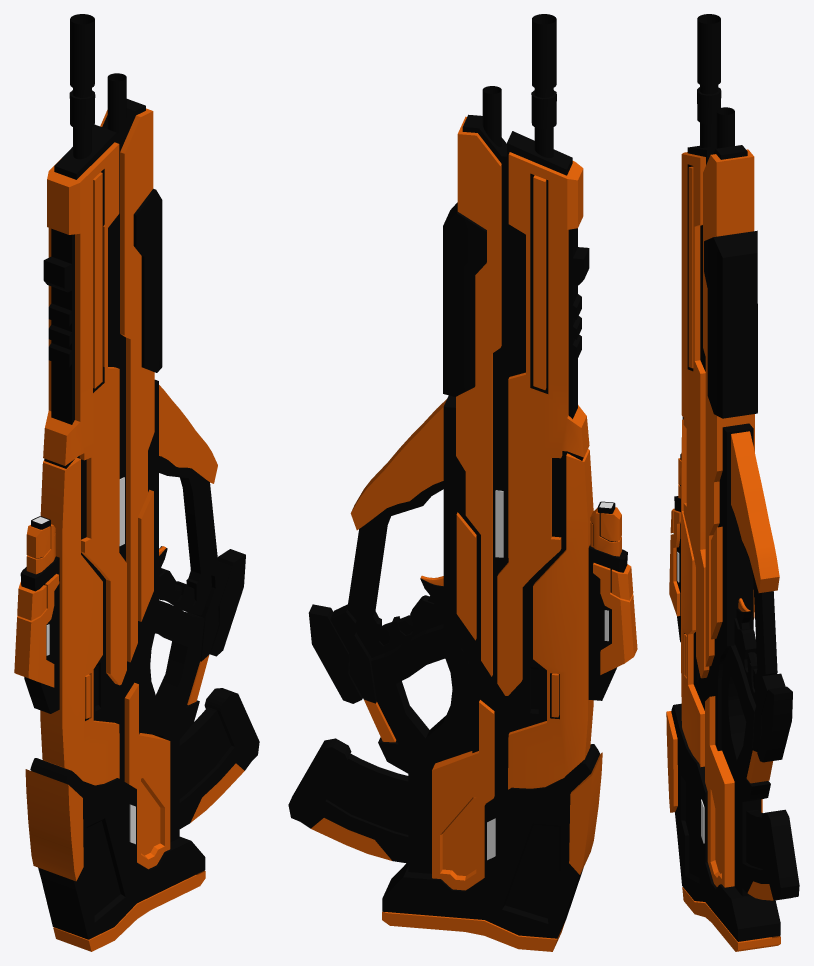
Rendered from shoulder gunn.fbx.
3 renders of one model, left to right at view 1: azimuth 30°, elevation 25°; view 2: azimuth 150°, elevation 25°; view 3: azimuth 270°, elevation 25°, orthographic. The views are drawn at different scales.
Visible parts, largest first — view 1: Cube.002; view 2: Cube.002; view 3: Cube.002.
Part boxes in pixels (bbox=[...]): Cube.002: bbox=[14, 14, 259, 951]; Cube.002: bbox=[288, 14, 637, 951]; Cube.002: bbox=[666, 14, 799, 951].
Bounding box in the file's own units: 13.74 × 41.24 × 5.63.
